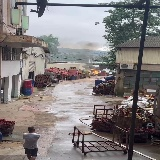fire: (91, 69, 100, 74)
